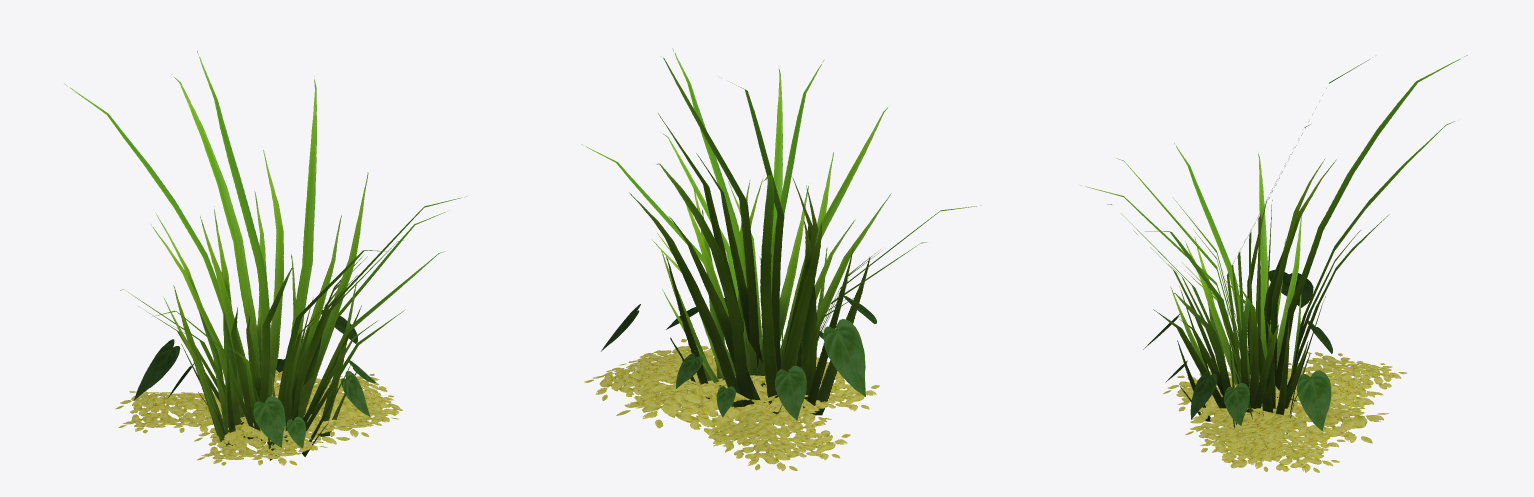
The model's file is leafplant2_lod1.fbx.
The picture shows the model from 3 angles, left to right: view 1: azimuth 30°, elevation 25°; view 2: azimuth 150°, elevation 25°; view 3: azimuth 270°, elevation 25°; orthographic projection. The views are drawn at different scales.
Visible parts, largest first — view 1: Mesh Object; view 2: Mesh Object; view 3: Mesh Object.
Part boxes in pixels (bbox=[...]): Mesh Object: bbox=[64, 50, 467, 465]; Mesh Object: bbox=[581, 48, 981, 471]; Mesh Object: bbox=[1080, 55, 1467, 472].
Size of the model in its own units: 3.43 by 3.02 by 3.57.
